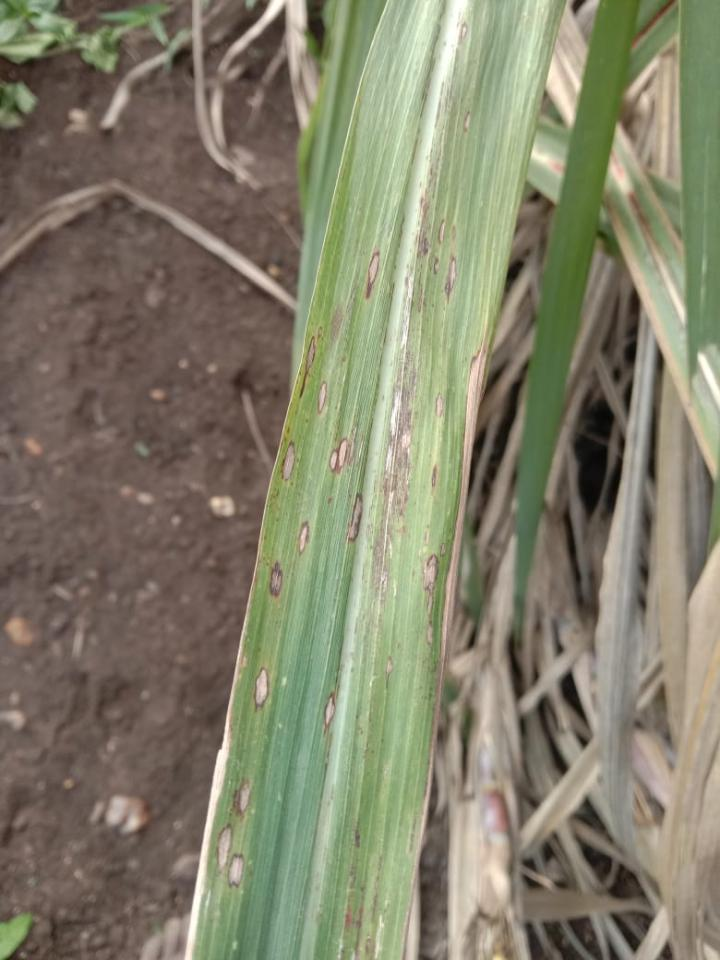Rust: (368, 266, 417, 609), (412, 23, 442, 166), (415, 154, 443, 258), (337, 859, 366, 959), (365, 899, 391, 959), (329, 426, 357, 476), (443, 48, 461, 117), (299, 334, 316, 398), (422, 554, 439, 615), (216, 823, 234, 876), (232, 779, 252, 822), (346, 493, 363, 543), (371, 855, 383, 923), (253, 666, 270, 713), (365, 250, 380, 300), (322, 691, 336, 739), (334, 639, 345, 700), (227, 853, 245, 889), (281, 441, 295, 482), (445, 253, 456, 304), (270, 559, 284, 599), (434, 82, 444, 130), (330, 305, 344, 339), (298, 520, 310, 556), (385, 656, 394, 692), (318, 380, 327, 415), (409, 817, 416, 852), (435, 392, 444, 418), (425, 622, 434, 646), (354, 616, 362, 638), (439, 219, 445, 246), (431, 465, 438, 488), (354, 826, 360, 849), (459, 23, 467, 40), (465, 113, 471, 132), (433, 257, 439, 276), (419, 291, 424, 313), (440, 543, 447, 558), (317, 325, 323, 341), (423, 530, 429, 545), (451, 225, 456, 243), (439, 7, 444, 22), (326, 497, 333, 503), (287, 427, 290, 435), (456, 22, 459, 29), (439, 53, 441, 59), (444, 42, 446, 47)
